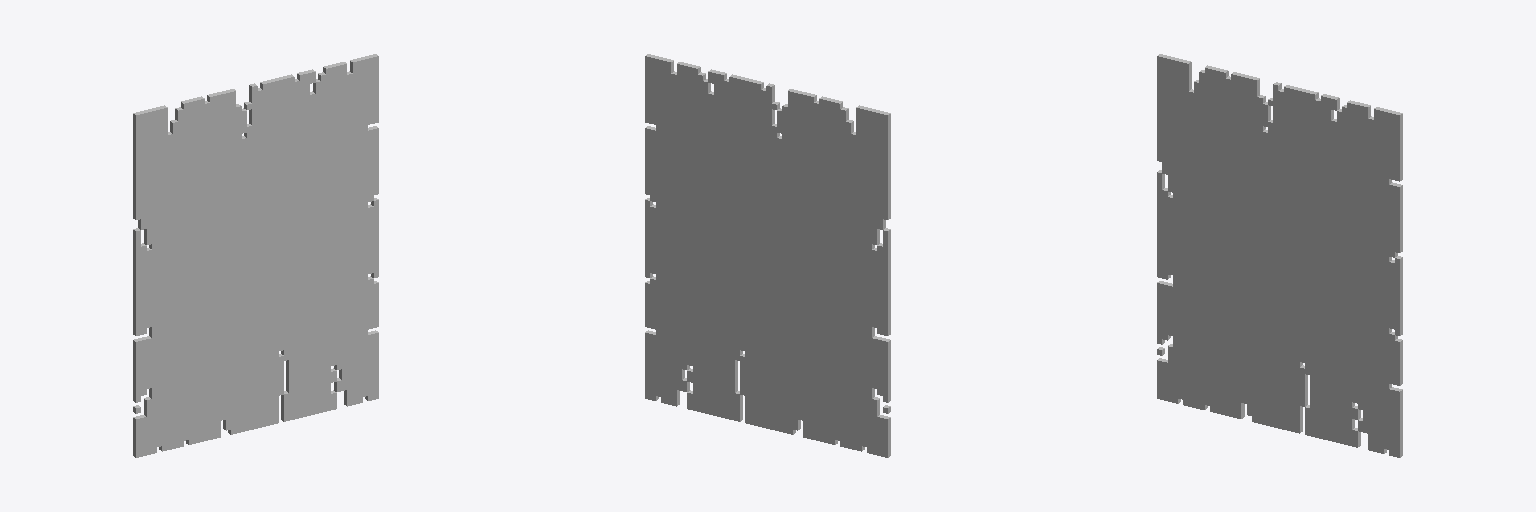
Rendered from carpet.obj.
3 views of the same model, side by side, from view 1: azimuth 30°, elevation 25°; view 2: azimuth 150°, elevation 25°; view 3: azimuth 330°, elevation 25° (orthographic).
Visible parts, largest first — view 1: carpet; view 2: carpet; view 3: carpet.
Part boxes in pixels (bbox=[...]): carpet: bbox=[133, 54, 378, 457]; carpet: bbox=[645, 54, 890, 457]; carpet: bbox=[1157, 54, 1402, 457].
Size of the model in its own units: 4.6 by 6.2 by 0.1.